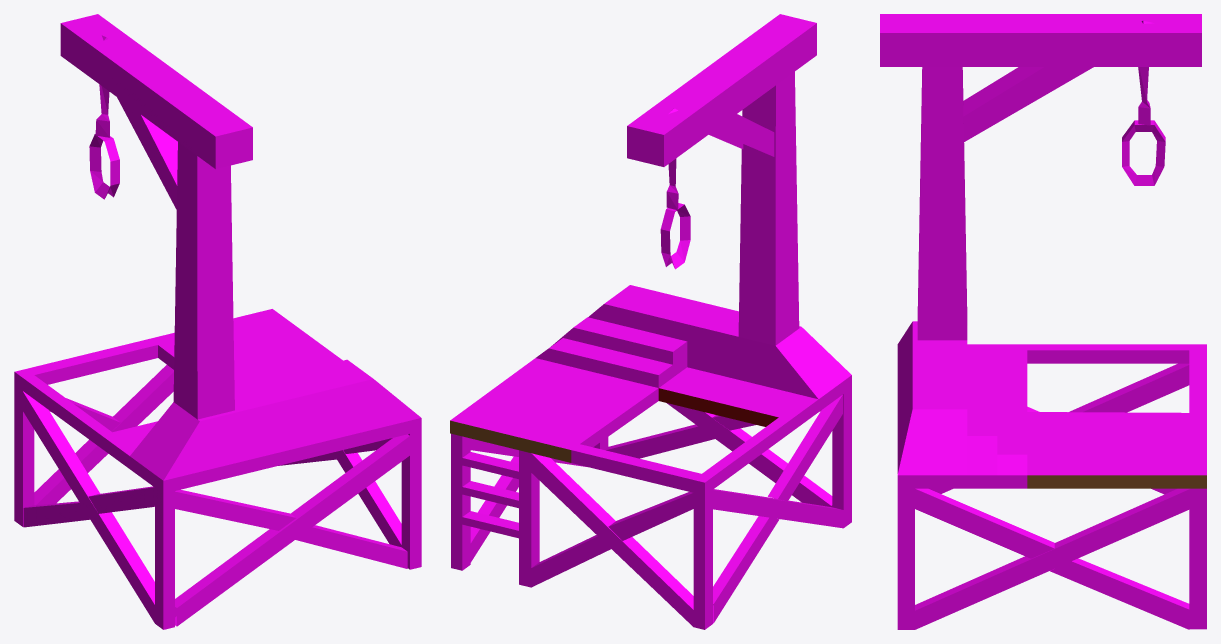
Rendered from gallows.obj.
3 renders of one model, left to right at view 1: azimuth 30°, elevation 25°; view 2: azimuth 150°, elevation 25°; view 3: azimuth 270°, elevation 25°, orthographic. The views are drawn at different scales.
Visible parts, largest first — view 1: gallows_back; view 2: gallows_back, gallows_front; view 3: gallows_back, gallows_front.
Boxes of the visible parts, bbox=[...] form: gallows_back: bbox=[14, 14, 421, 629]; gallows_back: bbox=[450, 14, 851, 629]; gallows_front: bbox=[450, 420, 571, 462]; gallows_back: bbox=[880, 14, 1206, 629]; gallows_front: bbox=[1027, 475, 1206, 488].
Bounding box in the file's own units: 2.48 × 4.51 × 2.62.
